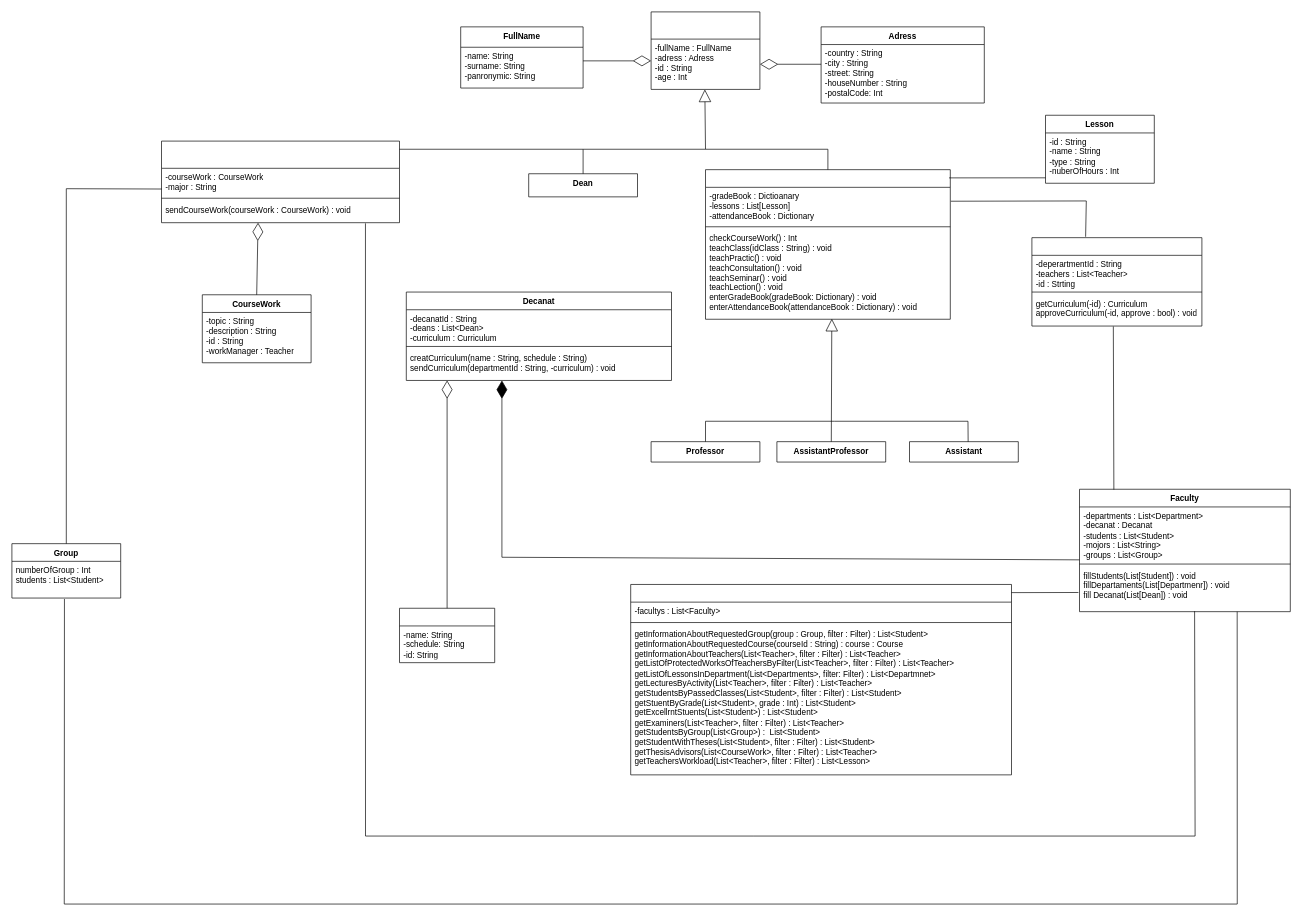
Image size: 1302x917. Some labels were removed from this diagram. Each missing label, with the box of its shape:
<<Abstract>> Human: (650, 11, 760, 89)
Curriculum: (399, 608, 495, 663)
Department: (1031, 237, 1202, 326)
Student: (161, 140, 400, 223)
Teacher: (705, 169, 950, 319)
University: (630, 584, 1012, 775)
